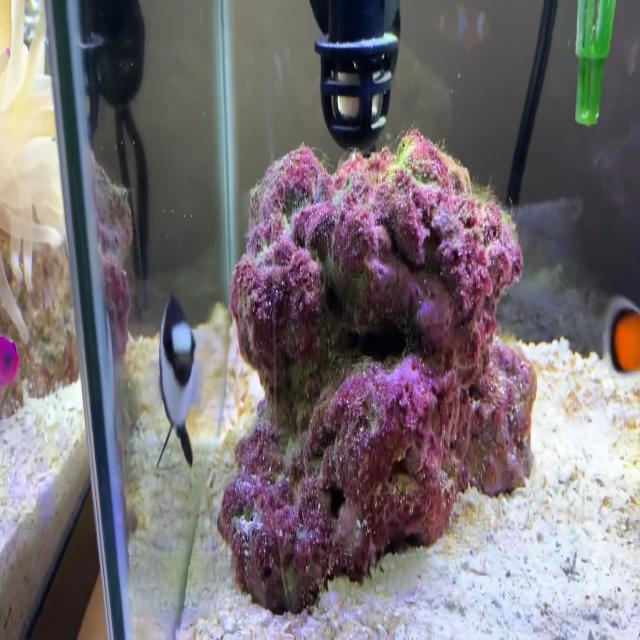ThreeStripedDamselfish: (157, 295, 198, 468)
